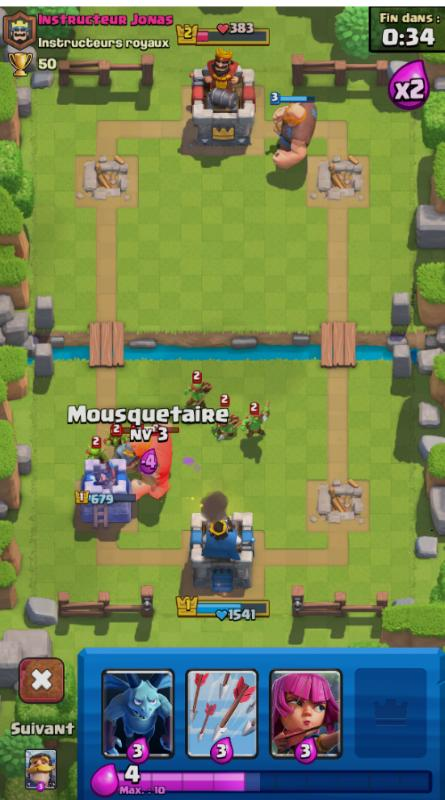chevalier: (114, 432, 150, 481)
geant: (264, 93, 321, 173), (123, 423, 176, 499)
gobelin: (82, 431, 106, 471), (106, 423, 129, 460)
gobelin_lances: (186, 370, 221, 415), (241, 398, 273, 441), (214, 402, 241, 442)
